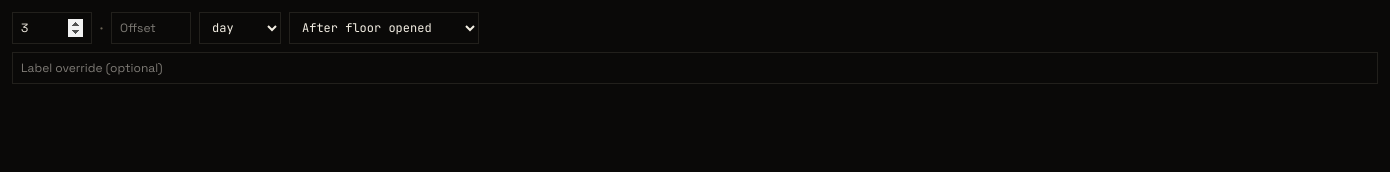
Test: EventTimeFields › reveals an anchor picker for the EVENT basis, excluding the edited event
Expected: the field labelled "Anchor event" is not shown
Select "Before/after an event" in the dropdown named "Time basis" at (384, 28), box 289,12 -> 479,44
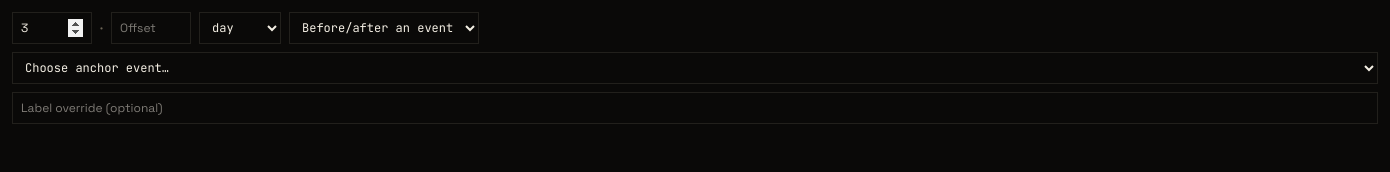
Expected: the dropdown named "Anchor event" is shown, 12,52 -> 1378,84
